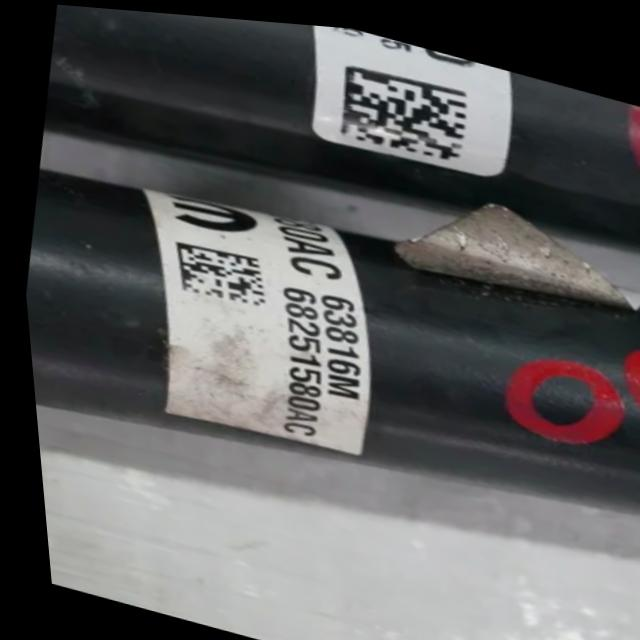datamatrix: (331, 53, 475, 163), (162, 233, 268, 309)
